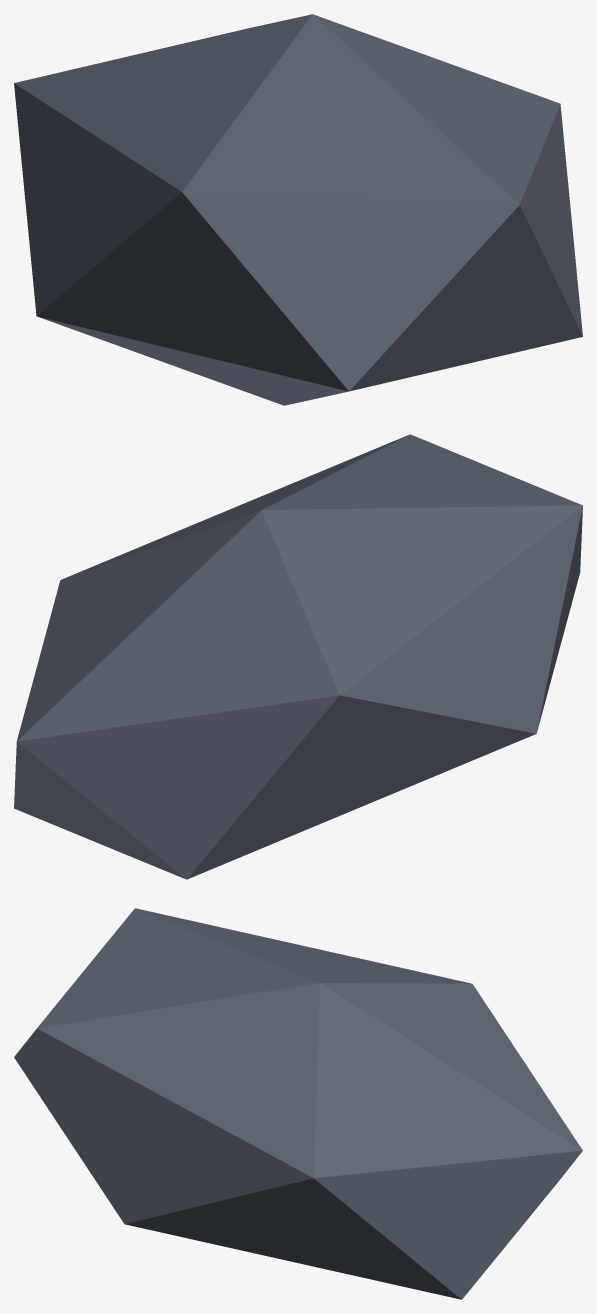
The model's file is EXT_SouthCliff_07_Shard_0.glb.
The picture shows the model from 3 angles, top to bottom: view 1: azimuth 30°, elevation 25°; view 2: azimuth 150°, elevation 25°; view 3: azimuth 270°, elevation 25°; orthographic projection. The views are drawn at different scales.
Parts seen in each view (by area): view 1: EXT_SouthCliff_07_Shard_0; view 2: EXT_SouthCliff_07_Shard_0; view 3: EXT_SouthCliff_07_Shard_0.
Part boxes in pixels (x1,y1,x2,y2): EXT_SouthCliff_07_Shard_0: (14,14,582,405); EXT_SouthCliff_07_Shard_0: (14,434,582,879); EXT_SouthCliff_07_Shard_0: (14,908,582,1299).
Size of the model in its own units: 1.62 by 1.01 by 1.99.
